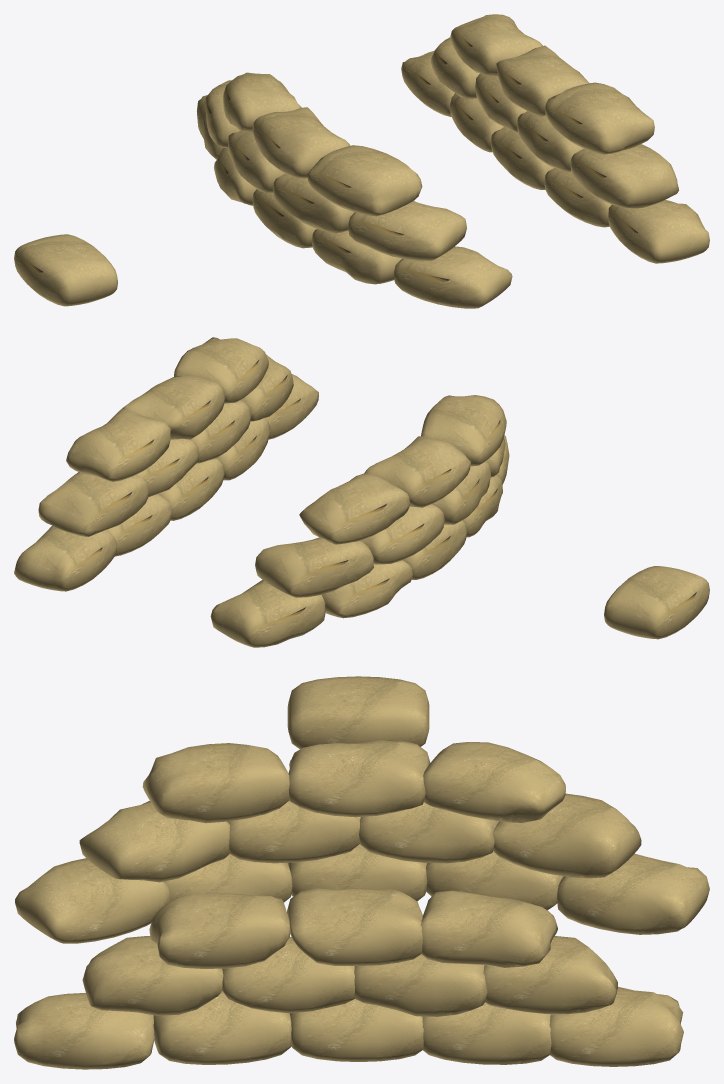
The model's file is sandbag.fbx.
3 renders of one model, top to bottom at view 1: azimuth 30°, elevation 25°; view 2: azimuth 150°, elevation 25°; view 3: azimuth 270°, elevation 25°, orthographic. The views are drawn at different scales.
Parts seen in each view (by area): view 1: sandbag2, sandbag1, sandbag; view 2: sandbag2, sandbag1, sandbag; view 3: sandbag2, sandbag1, sandbag.
Boxes of the visible parts, box(x1,y1,x2,y2) form: sandbag2: box(401, 14, 709, 263); sandbag1: box(197, 72, 512, 308); sandbag: box(14, 234, 117, 306); sandbag2: box(14, 337, 318, 591); sandbag1: box(210, 395, 509, 647); sandbag: box(604, 566, 709, 639); sandbag2: box(14, 888, 683, 1069); sandbag1: box(15, 740, 709, 943); sandbag: box(287, 676, 429, 748).
Bounding box in the file's own units: 2331 × 461 × 1932.
1 material, 1 textured.
